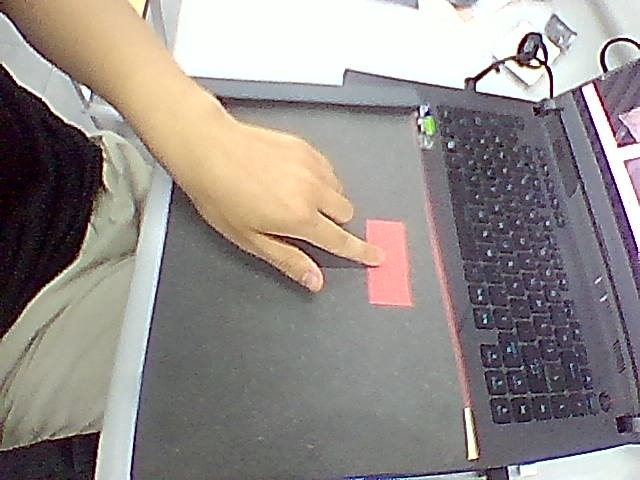card: (367, 220, 412, 306)
